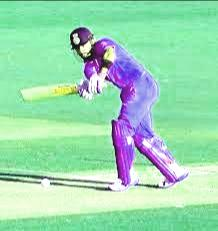batsman: (70, 16, 188, 196)
